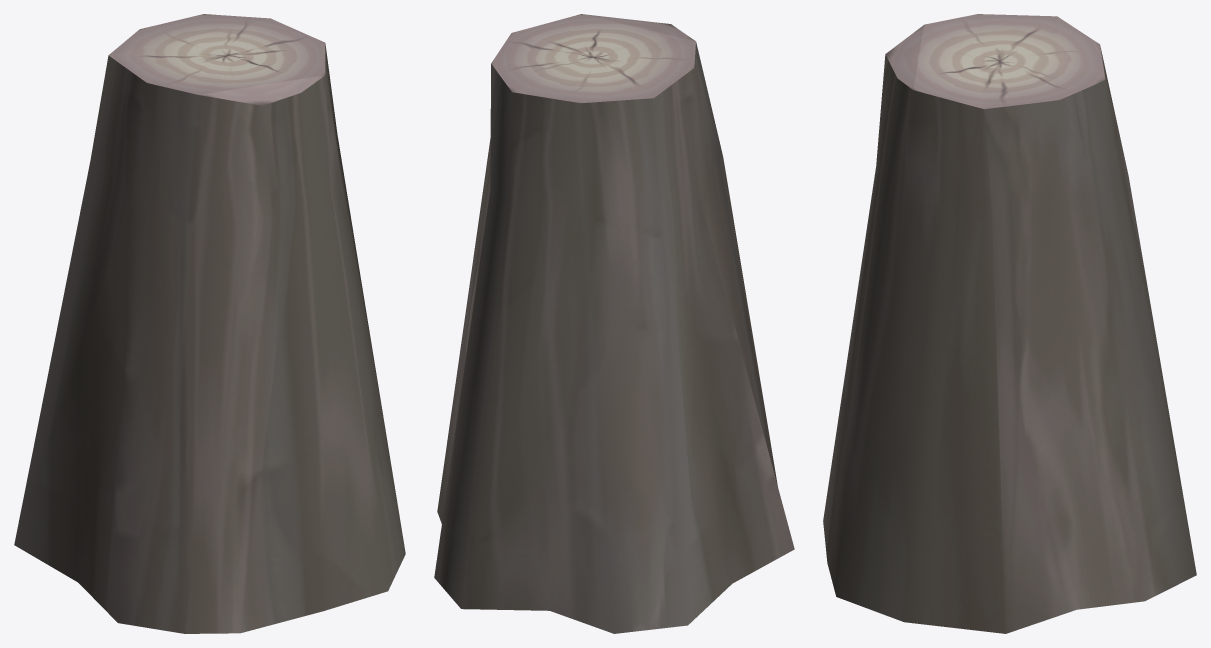
File: m_env_collect_tree_cedar_stump_02_lod1.fbx
The picture shows the model from 3 angles, left to right: view 1: azimuth 30°, elevation 25°; view 2: azimuth 150°, elevation 25°; view 3: azimuth 270°, elevation 25°; orthographic projection.
Visible parts, largest first — view 1: m_env_collect_tree_cedar_stump_02_lod1; view 2: m_env_collect_tree_cedar_stump_02_lod1; view 3: m_env_collect_tree_cedar_stump_02_lod1.
Part boxes in pixels (<box>): m_env_collect_tree_cedar_stump_02_lod1: <box>14,14,405,633</box>; m_env_collect_tree_cedar_stump_02_lod1: <box>434,14,794,633</box>; m_env_collect_tree_cedar_stump_02_lod1: <box>823,14,1196,633</box>.
Size of the model in its own units: 60.21 by 92.44 by 62.47.
